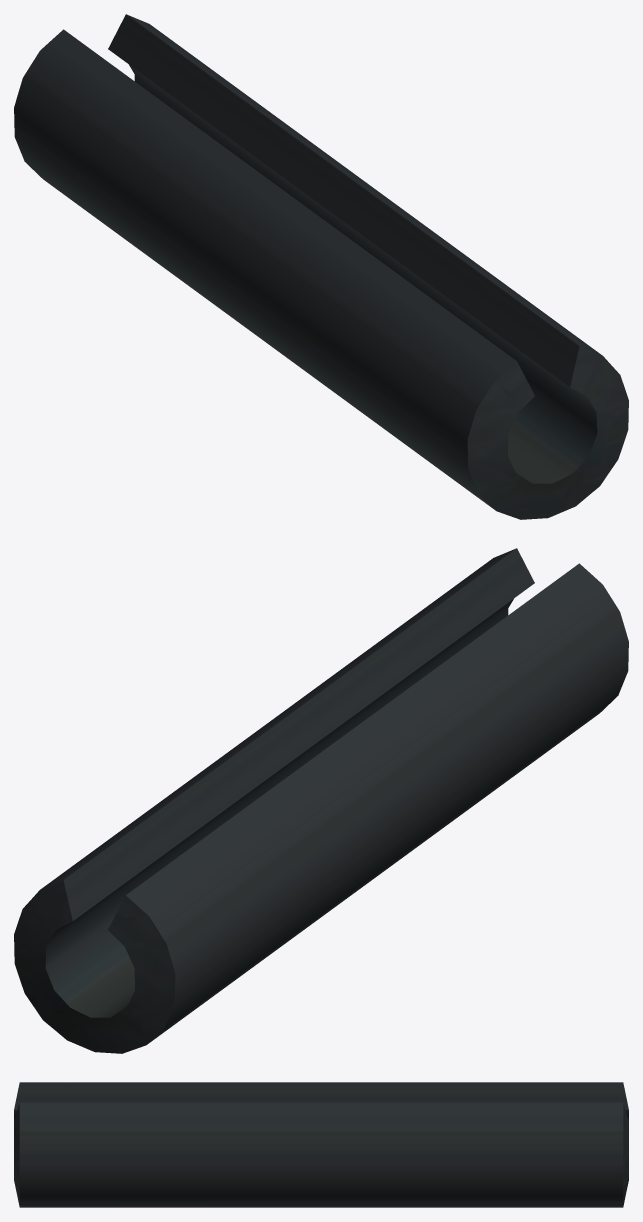
The model's file is Spring_Pin2.dae.
3 views of the same model, one above another, from view 1: azimuth 30°, elevation 25°; view 2: azimuth 150°, elevation 25°; view 3: azimuth 270°, elevation 25° (orthographic). The views are drawn at different scales.
Visible parts, largest first — view 1: Spring_Pin2; view 2: Spring_Pin2; view 3: Spring_Pin2.
Part boxes in pixels (x1,y1,x2,y2): Spring_Pin2: (14,14,628,519); Spring_Pin2: (14,548,628,1053); Spring_Pin2: (14,1082,628,1207).
Bounding box in the file's own units: 0.00311 × 0.0154 × 0.00303.
1 material, 1 textured.
